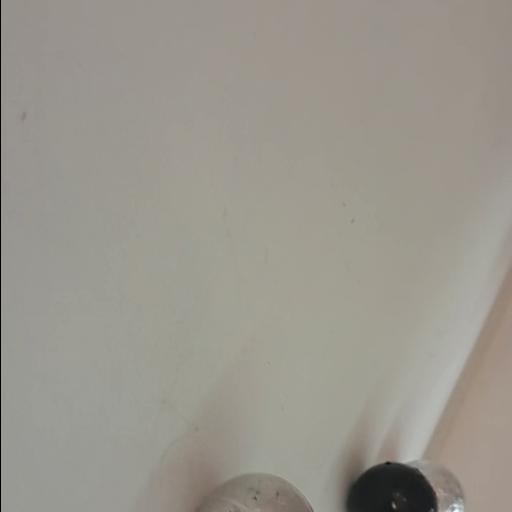alive: (195, 472, 319, 512), (409, 462, 465, 512)
dead: (348, 460, 438, 512)
